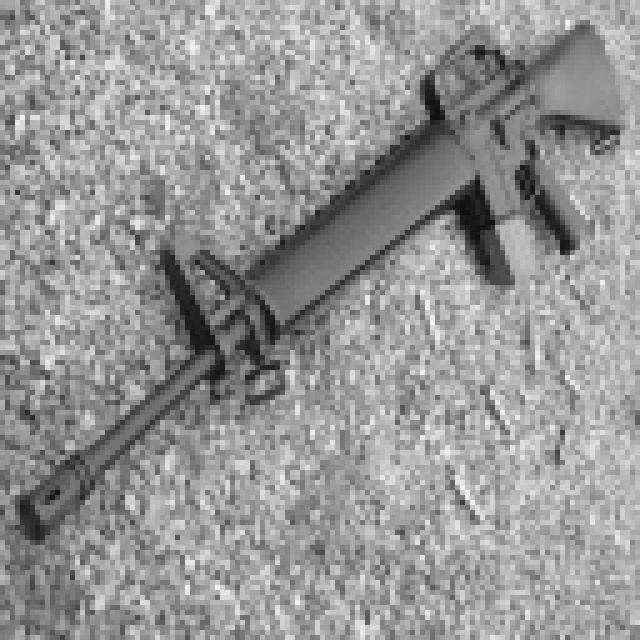Rifle: (0, 0, 638, 565)
